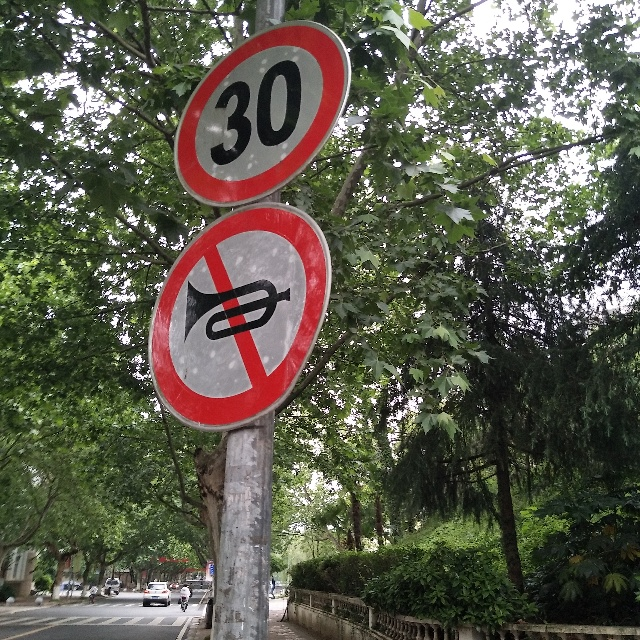nohonk: (149, 203, 333, 433)
